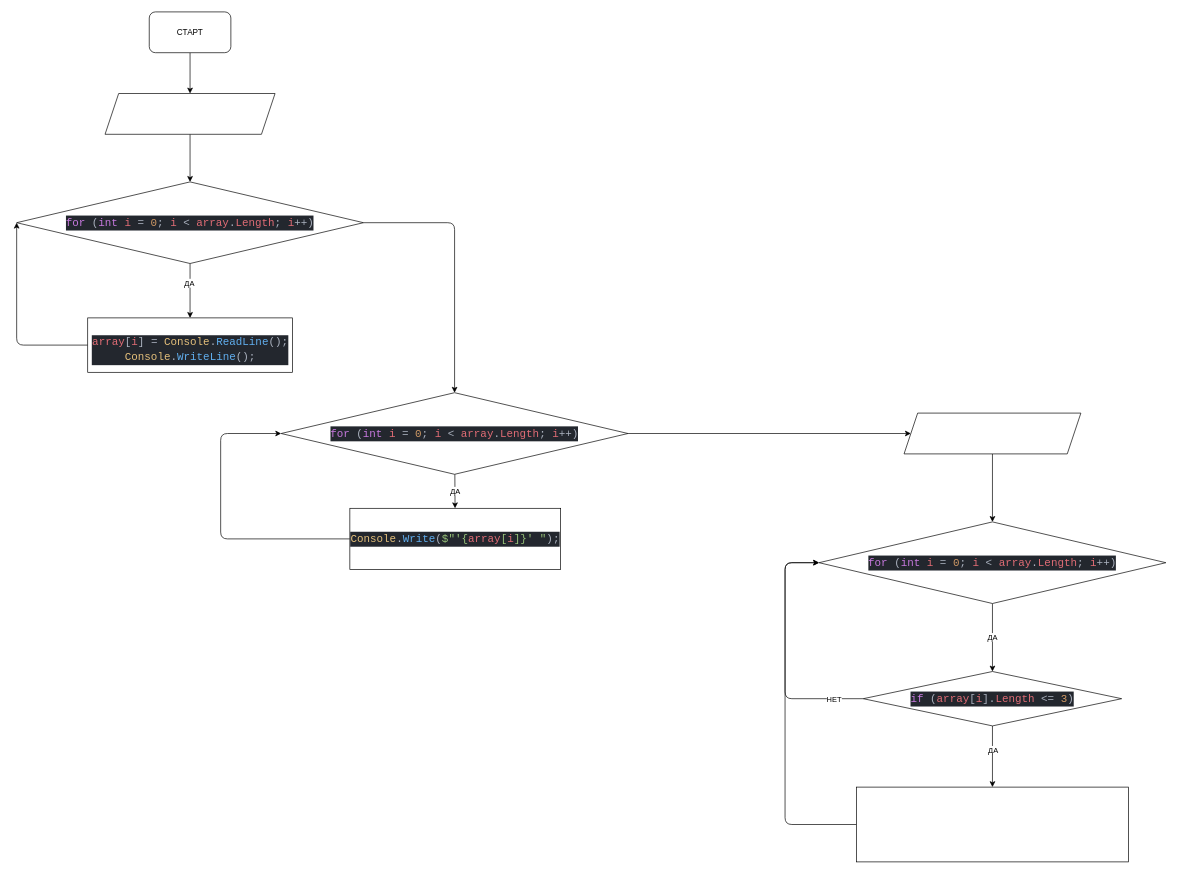
This 1178x874 diagram has some shape labels left out. The shapes that lost their labels are listed below. From the top down, each one's centre as x and y in pixels, then its label:
(x=189, y=113): len string [] array
(x=992, y=433): string [] result
(x=992, y=824): result [ i ] = array [ i ]; Console . Write ( $" ' { result [ i ]} ' " );
